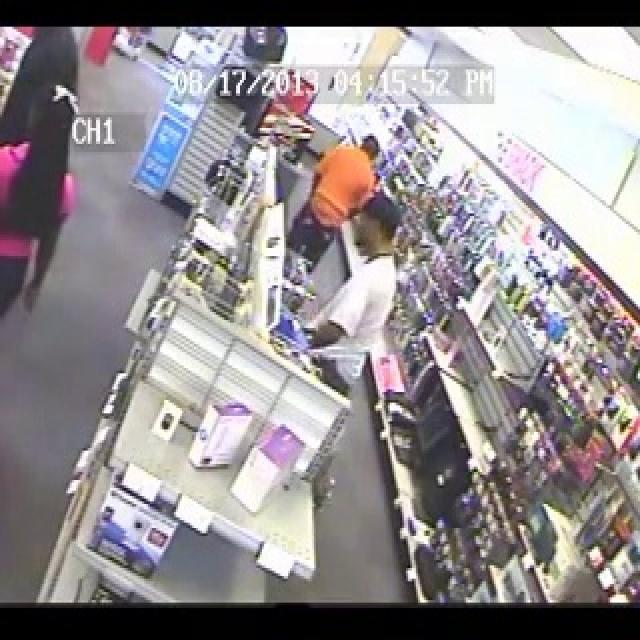Normal: (2, 27, 640, 604)
